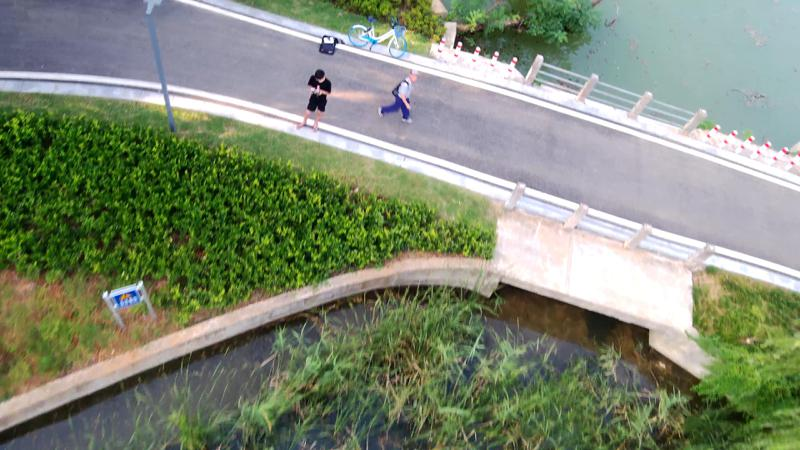passerby: (293, 65, 334, 133), (377, 64, 419, 125)
